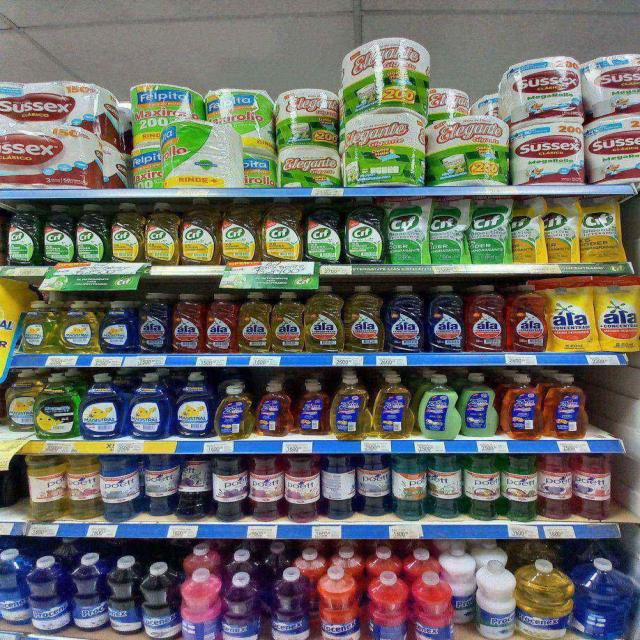ala_conc_amarillo: (344, 285, 384, 353), (305, 285, 343, 353), (238, 292, 270, 354), (271, 291, 303, 353)
ala_conc_azul: (385, 285, 424, 353), (426, 285, 464, 353), (138, 293, 170, 354)
ala_conc_rojo: (465, 284, 505, 353), (507, 284, 546, 352), (171, 293, 204, 354), (205, 292, 237, 354)
ala_sachet_amarillo: (548, 279, 595, 352), (597, 276, 639, 353)
cif_conc_bot_amarilla: (261, 196, 302, 262), (180, 197, 219, 265), (221, 197, 259, 263), (144, 202, 178, 264), (110, 202, 142, 264)
cif_conc_botella_verde: (344, 196, 384, 264), (303, 196, 342, 264), (6, 202, 39, 266), (75, 202, 108, 263), (42, 203, 74, 264)
cif_conc_sachet_amarillo: (580, 195, 625, 263), (546, 196, 580, 264)
cif_conc_sachet_verde: (468, 196, 511, 264), (386, 196, 428, 264), (429, 196, 467, 264)
magistral_con_amarillo: (60, 300, 98, 354), (20, 301, 58, 354), (5, 370, 36, 433)
magistral_con_azul: (127, 372, 171, 440), (81, 372, 125, 440), (173, 374, 213, 439), (100, 300, 136, 354)
magistral_con_verde: (38, 373, 78, 440)
zorro: (545, 374, 589, 439), (501, 373, 543, 440), (416, 373, 458, 440), (372, 373, 412, 440), (331, 375, 370, 440), (461, 373, 498, 438), (255, 381, 292, 438), (215, 384, 252, 440), (295, 380, 329, 437)
